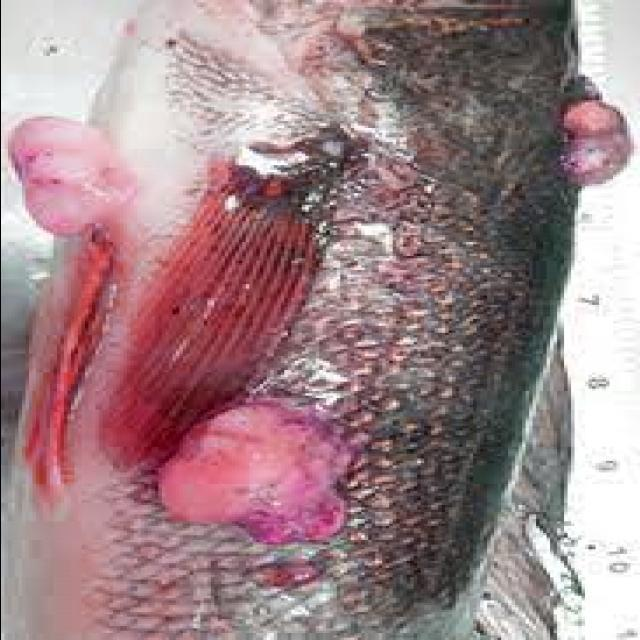EUS Disease: (4, 10, 633, 640), (10, 83, 428, 592), (513, 48, 640, 224)
